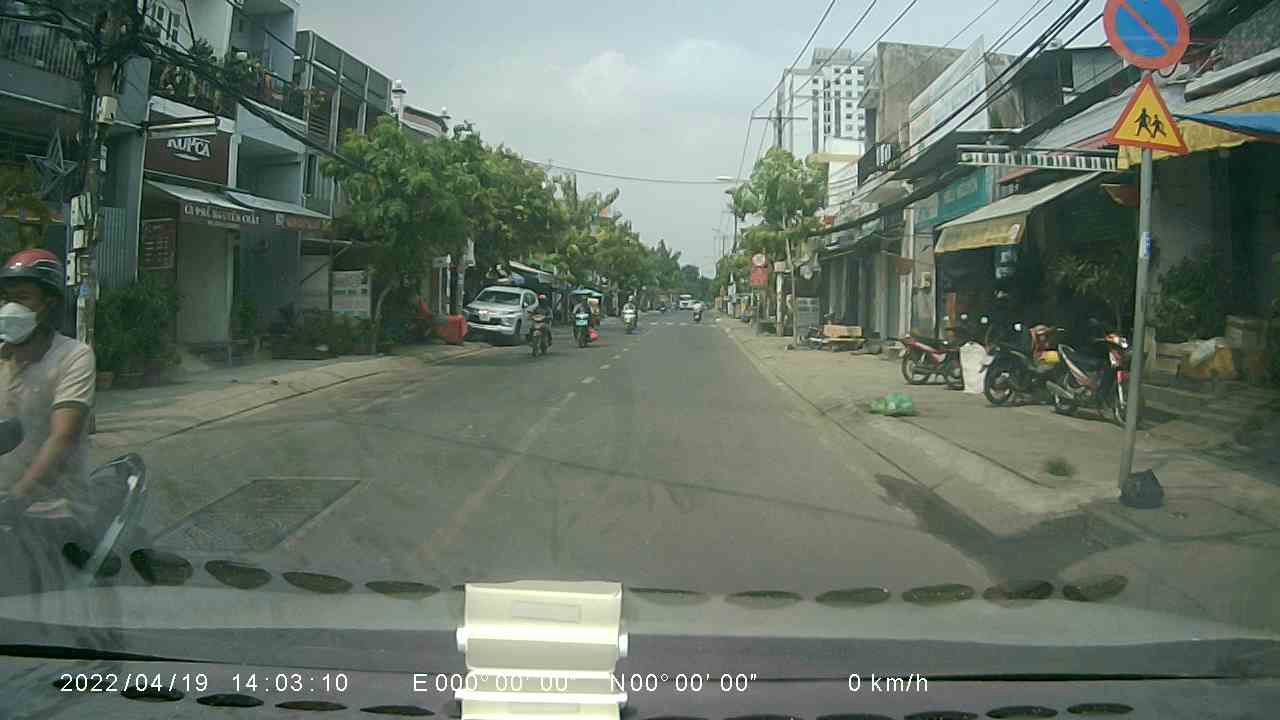Bien khac: (1102, 73, 1194, 155)
Cam do xe: (1100, 1, 1197, 68)
